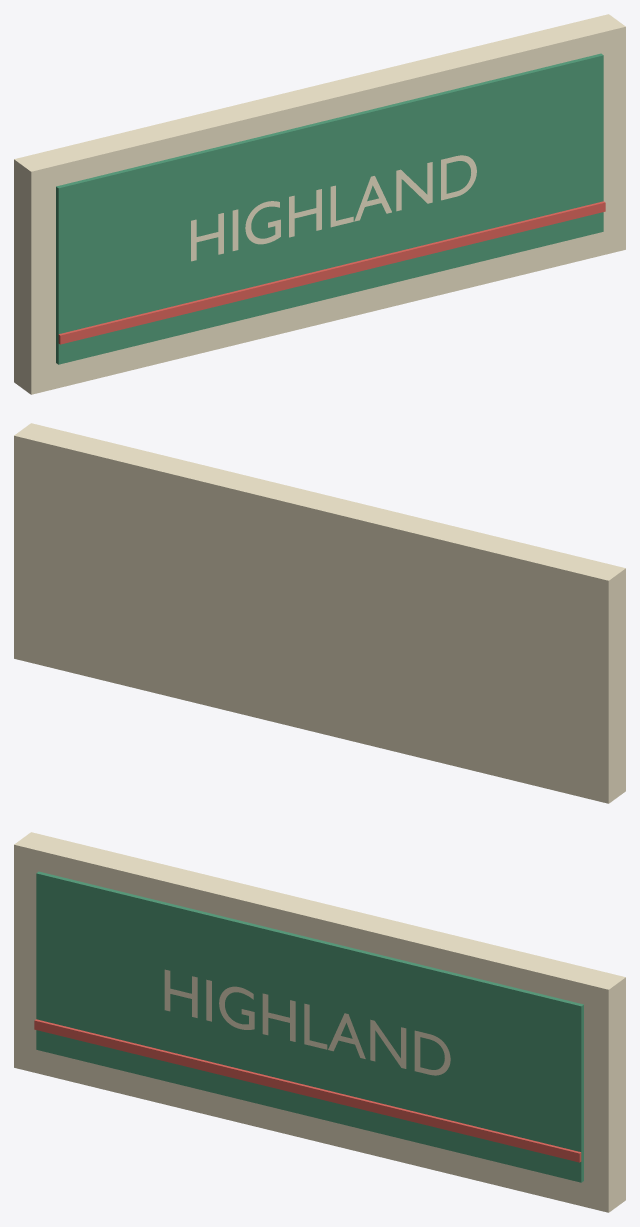
The model's file is fictional-boundary-board-highland.glb.
3 views of the same model, one above another, from view 1: azimuth 30°, elevation 25°; view 2: azimuth 150°, elevation 25°; view 3: azimuth 330°, elevation 25° (orthographic).
Parts seen in each view (by area): view 1: Highland board | inset, Highland board | fascia, Highland board | accent line, Highland board | fictional wordmark; view 2: Highland board | fascia; view 3: Highland board | inset, Highland board | fascia, Highland board | accent line, Highland board | fictional wordmark.
Part boxes in pixels (x1,y1,x2,y2): Highland board | inset: (56, 53, 603, 364); Highland board | fascia: (14, 14, 625, 394); Highland board | accent line: (58, 201, 605, 344); Highland board | fictional wordmark: (191, 155, 476, 261); Highland board | fascia: (14, 423, 625, 803); Highland board | inset: (36, 871, 583, 1182); Highland board | fascia: (14, 832, 625, 1212); Highland board | accent line: (34, 1019, 581, 1162); Highland board | fictional wordmark: (164, 969, 450, 1075).
Size of the model in its own units: 2.4 by 0.86 by 0.152.
